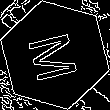M_E: (24, 26, 86, 84)
